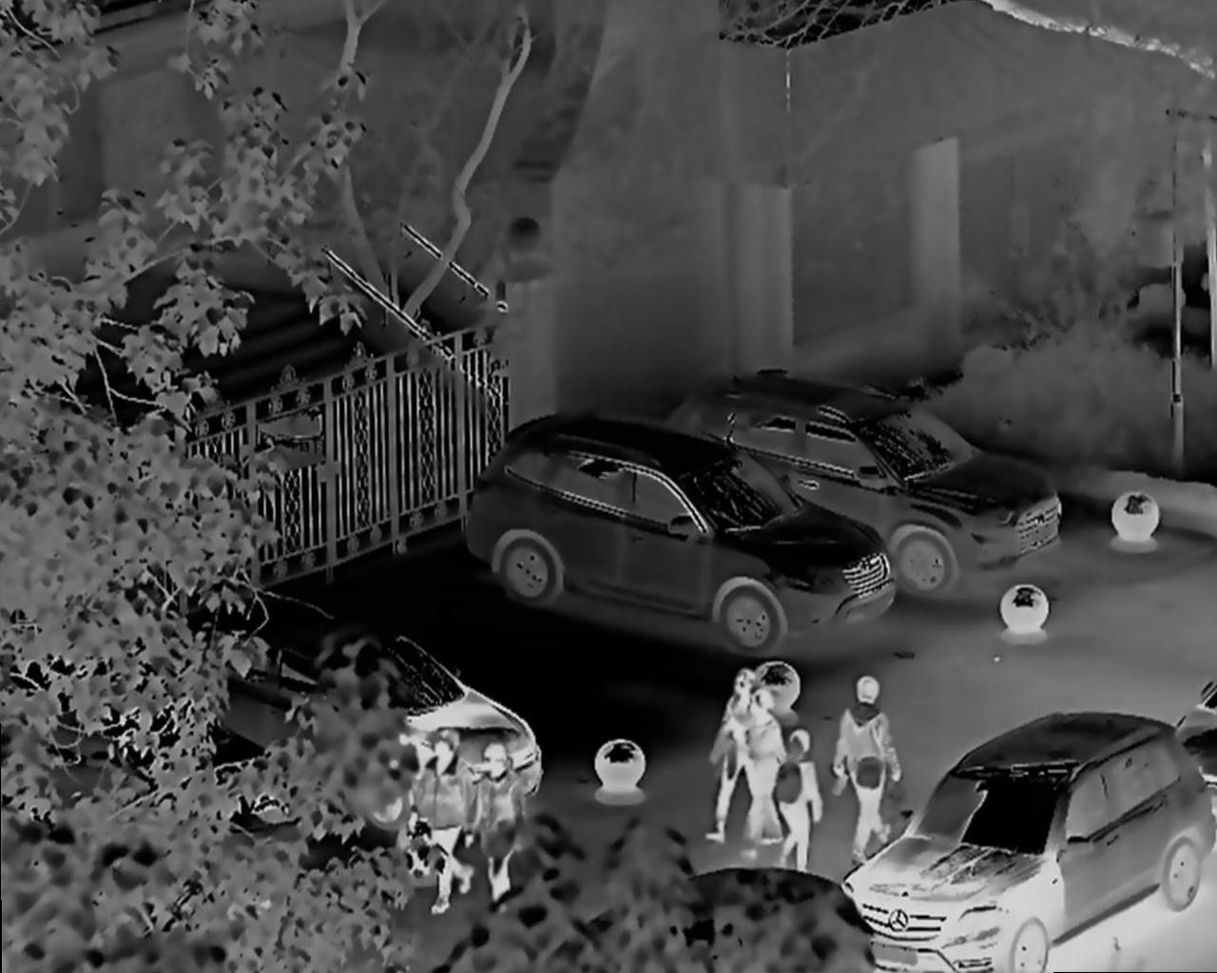person: (822, 673, 917, 852), (400, 728, 483, 895), (473, 745, 527, 911), (706, 666, 752, 844), (773, 725, 829, 870), (739, 686, 786, 839)
